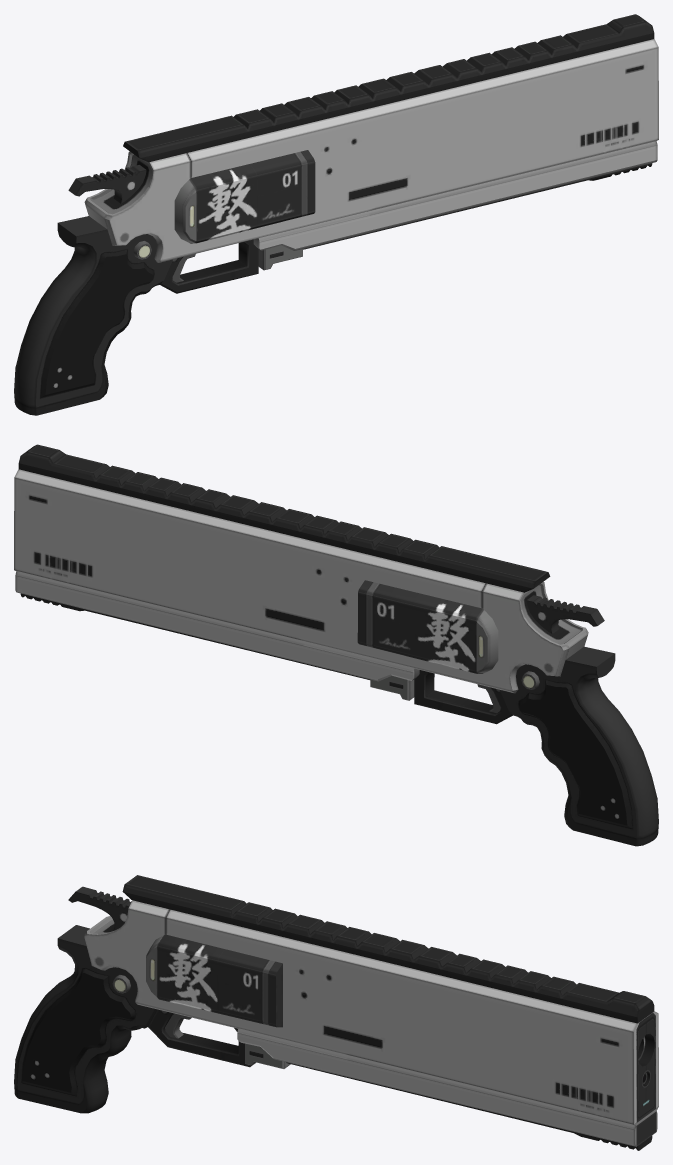
The model's file is E2GunMd060011.fbx.
3 views of the same model, one above another, from view 1: azimuth 30°, elevation 25°; view 2: azimuth 150°, elevation 25°; view 3: azimuth 330°, elevation 25° (orthographic).
Parts seen in each view (by area): view 1: E2GunMd060011; view 2: E2GunMd060011; view 3: E2GunMd060011.
Boxes of the visible parts, x1=… form: E2GunMd060011: x1=14, y1=14, x2=658, y2=415; E2GunMd060011: x1=14, y1=444, x2=658, y2=846; E2GunMd060011: x1=14, y1=875, x2=658, y2=1150.
Size of the model in its own units: 0.3637 by 0.1336 by 0.0393.
1 material, 1 textured.
